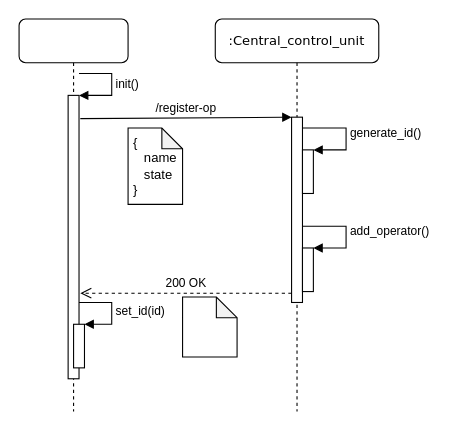
This 449x431 diagram has some shape labels left out. Each missing label, with the box of its shape:
:Lift_op: (18, 18, 128, 411)
{ ID }: (181, 296, 237, 357)
